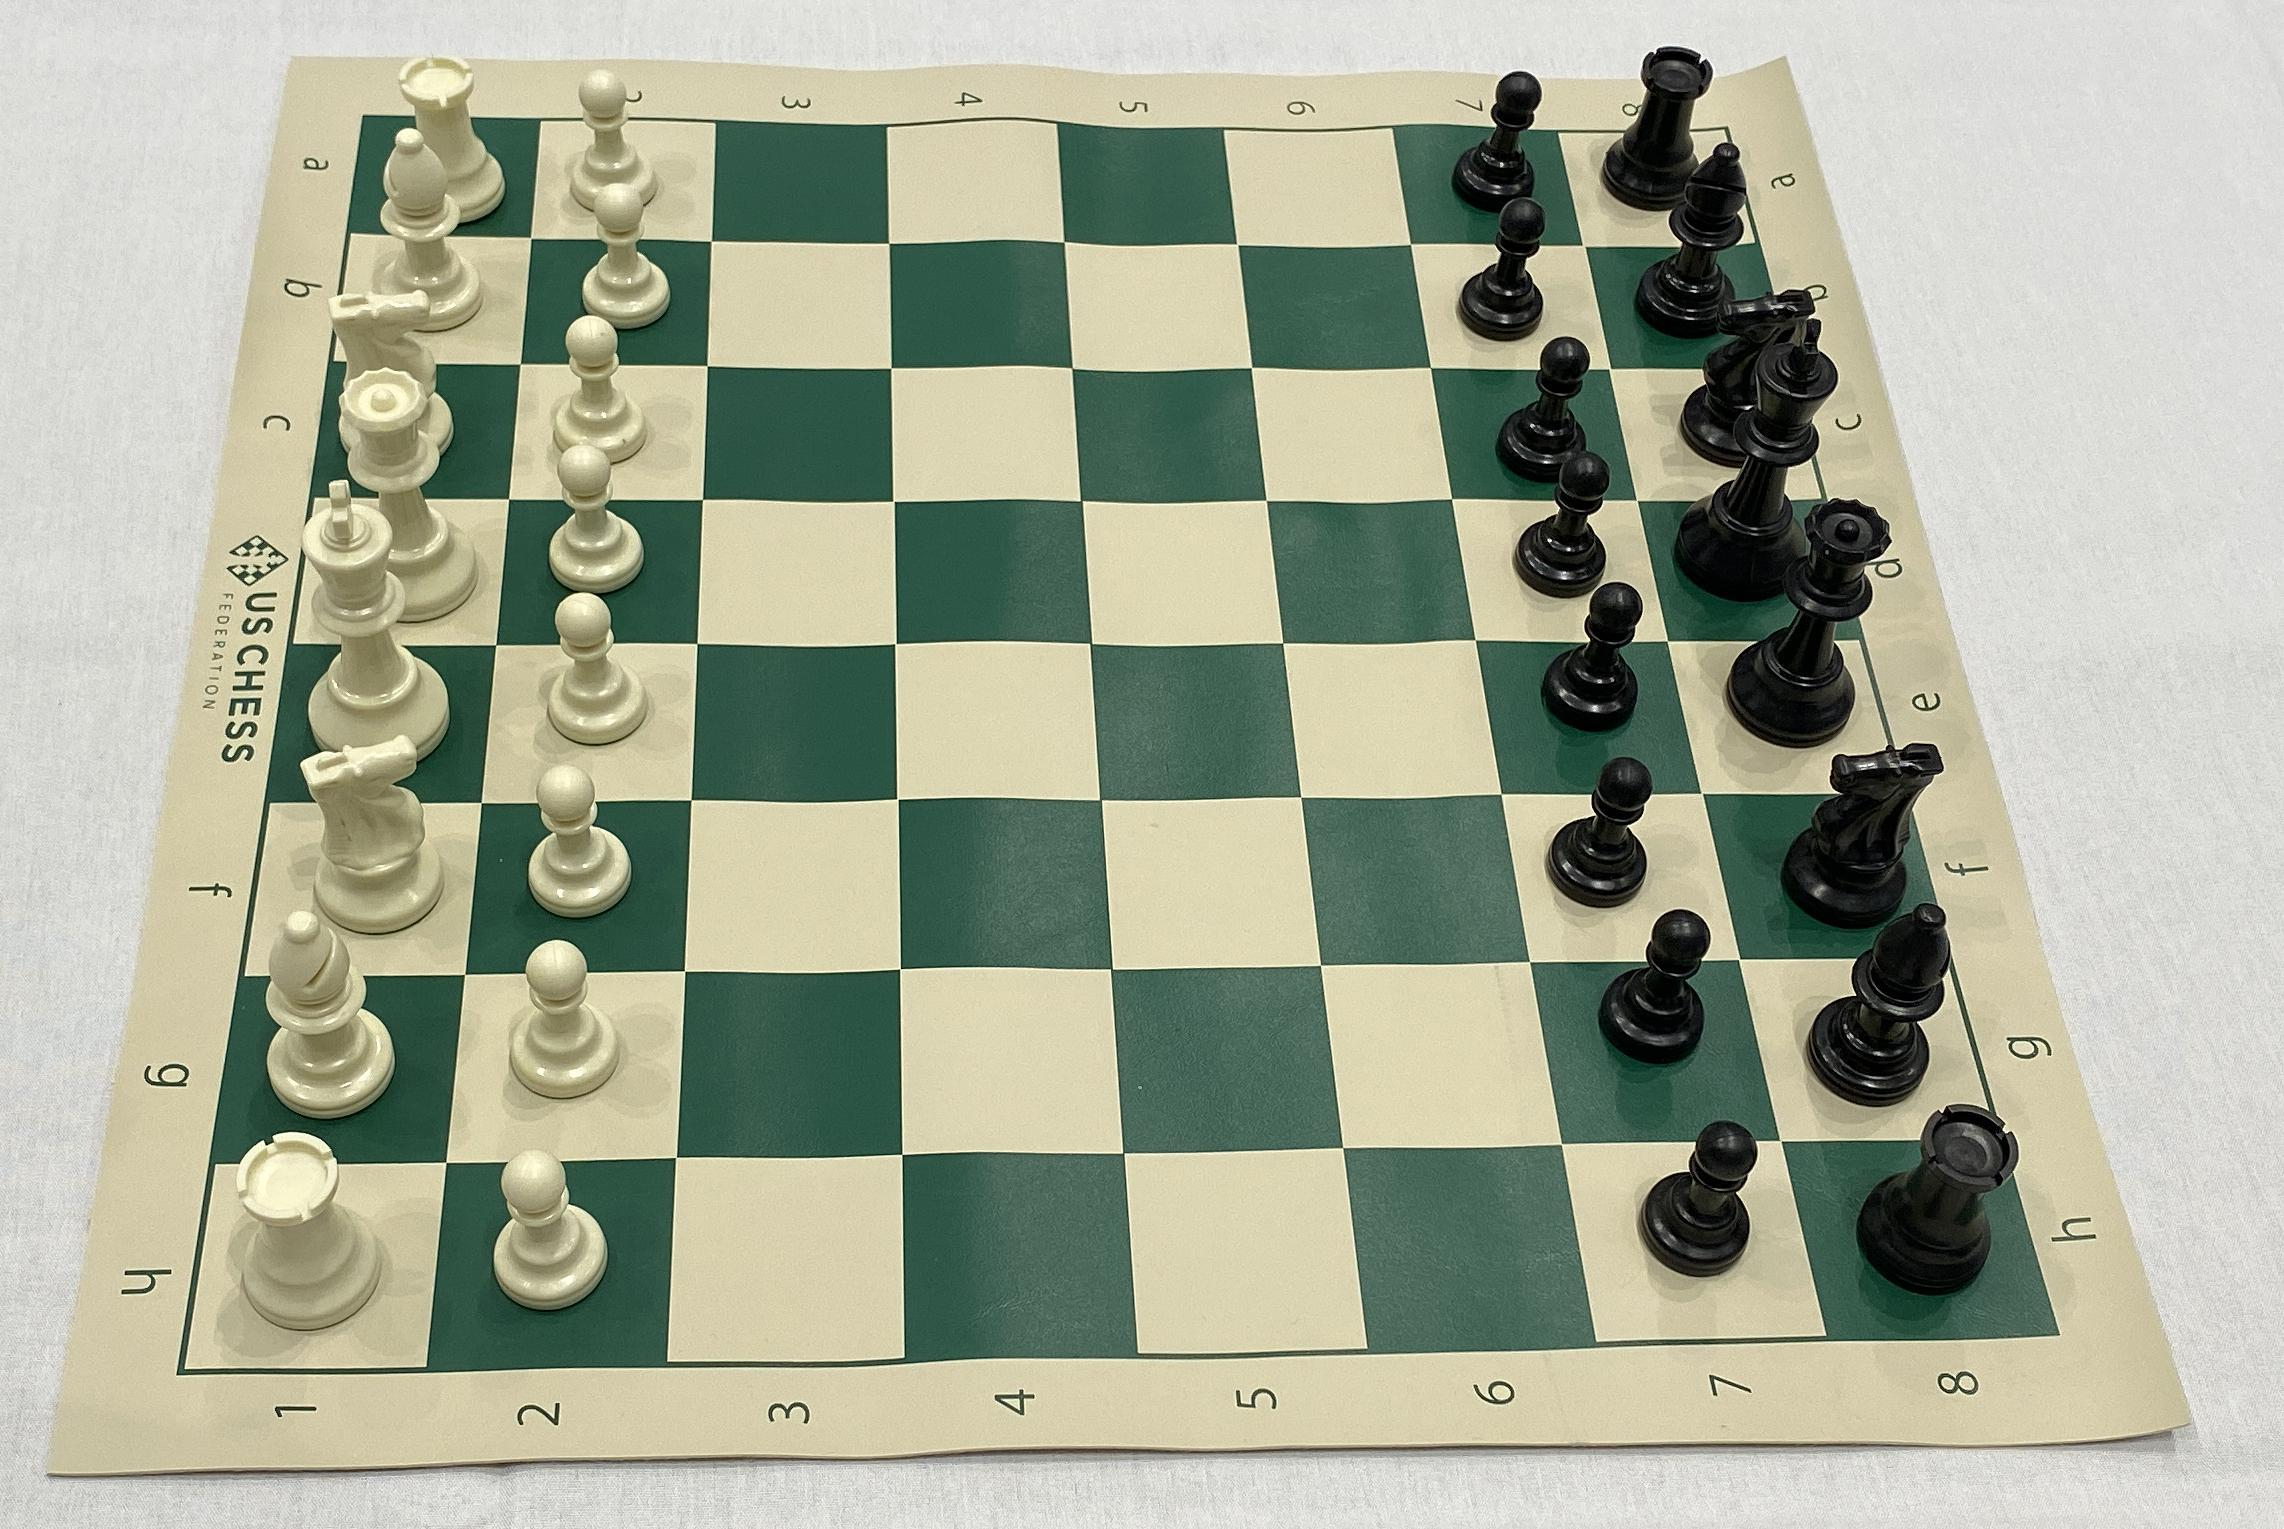black-bishop: (1806, 901, 1955, 1102), (1643, 135, 1759, 341)
black-king: (1673, 328, 1846, 602)
black-knight: (1776, 735, 1951, 920), (1677, 282, 1827, 468)
black-pawn: (1580, 903, 1723, 1073), (1632, 1118, 1769, 1288), (1530, 751, 1655, 908), (1527, 580, 1646, 734), (1510, 452, 1620, 602), (1494, 333, 1602, 485), (1448, 65, 1544, 217), (1458, 196, 1556, 343)
black-queen: (1725, 486, 1897, 753)
black-rook: (1852, 1102, 2025, 1300), (1593, 29, 1716, 218)
white-bishop: (251, 908, 403, 1121), (362, 126, 486, 333)
white-king: (285, 473, 450, 770)
white-knight: (288, 732, 442, 933), (319, 285, 466, 461)
white-pawn: (471, 1147, 617, 1312), (495, 939, 619, 1108), (517, 758, 635, 921), (534, 589, 653, 749), (541, 440, 655, 589), (539, 312, 643, 468), (568, 183, 672, 336), (556, 63, 658, 213)
white-queen: (331, 365, 478, 626)
white-rook: (220, 1126, 382, 1336), (385, 43, 508, 225)
